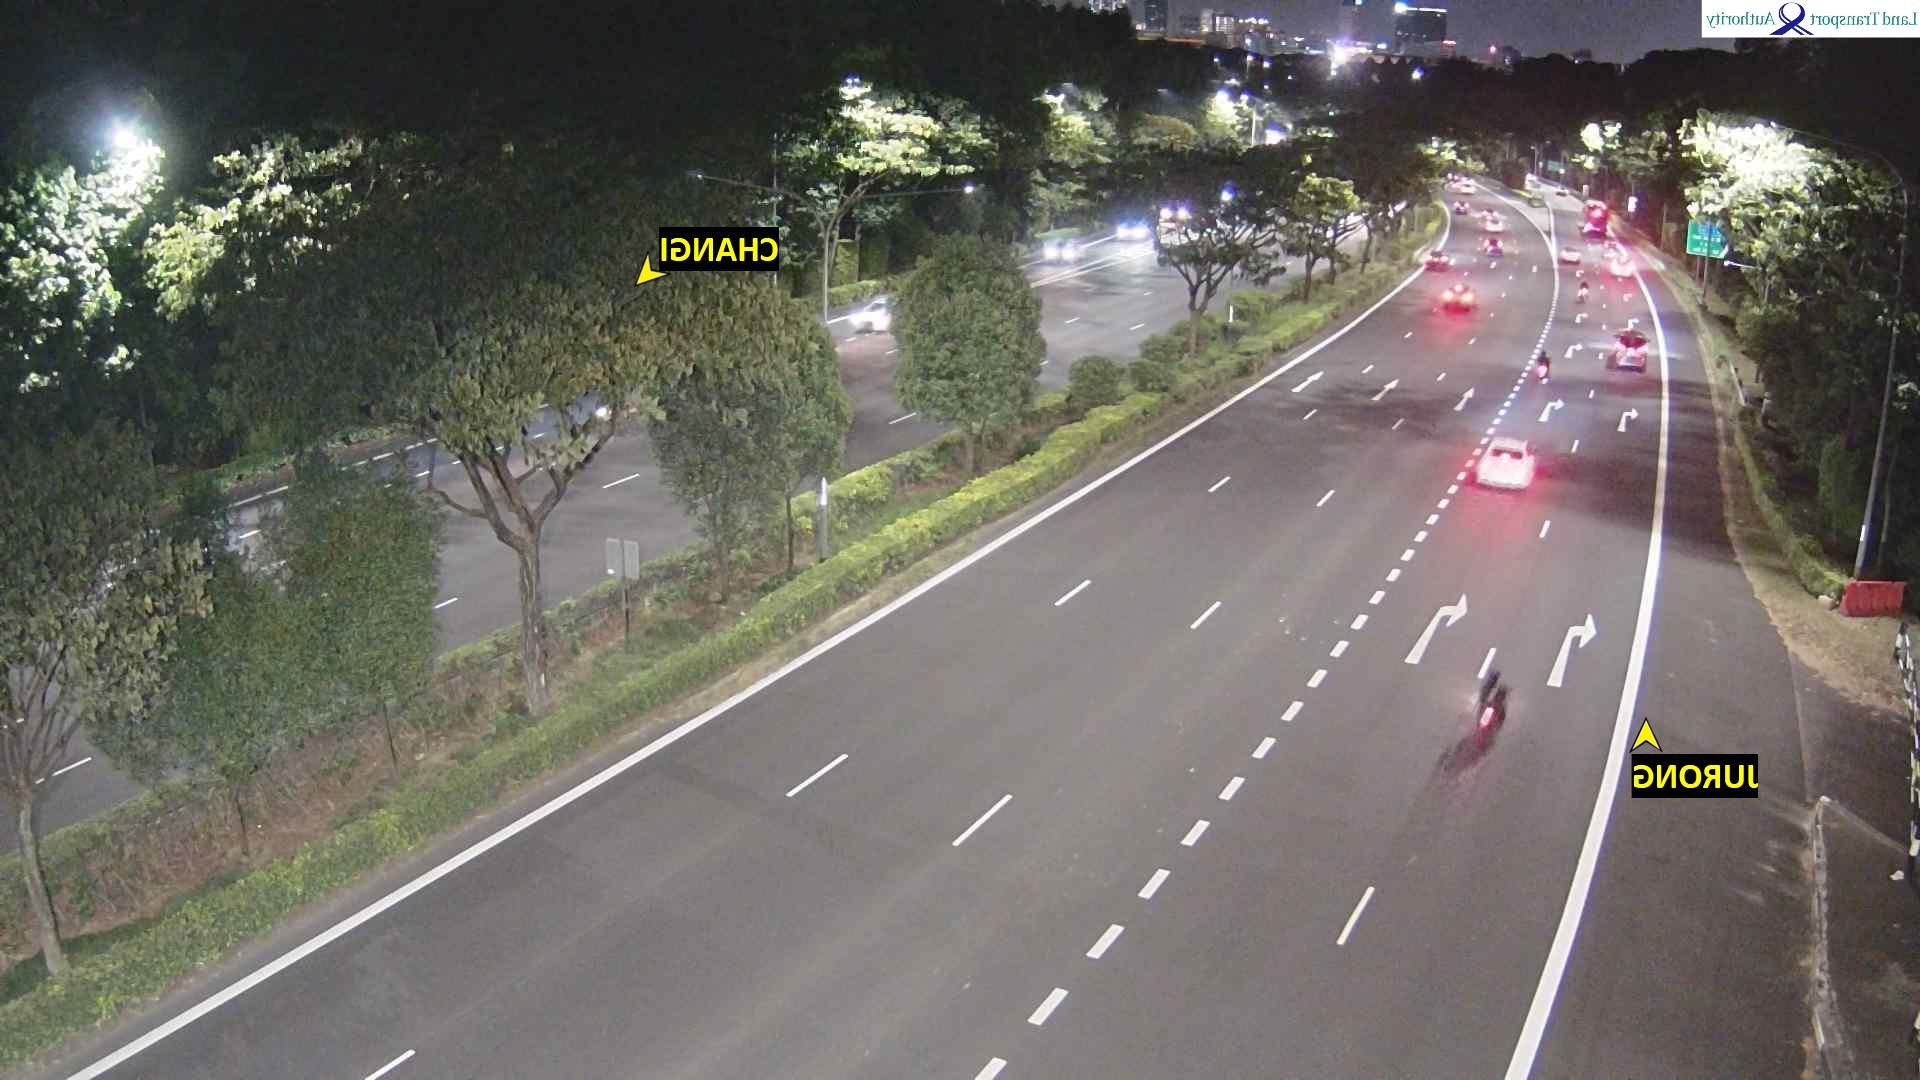incoming: (845, 295, 889, 336), (1043, 236, 1080, 265), (1110, 216, 1149, 243)
